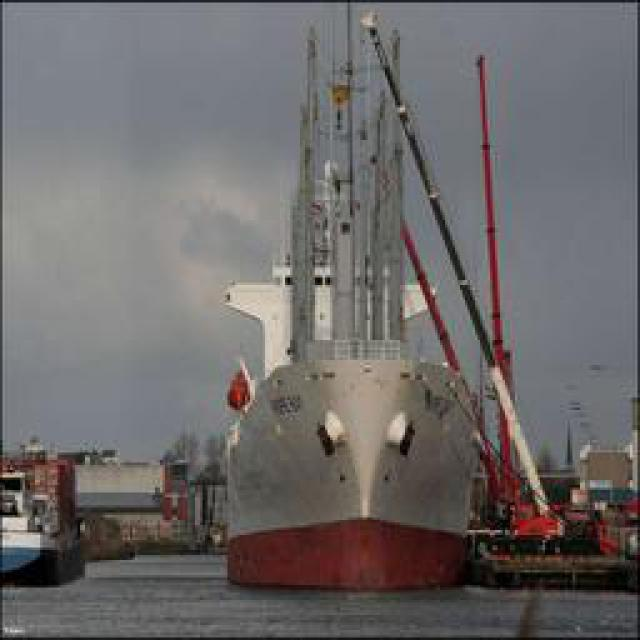Ship: (209, 4, 594, 597)
